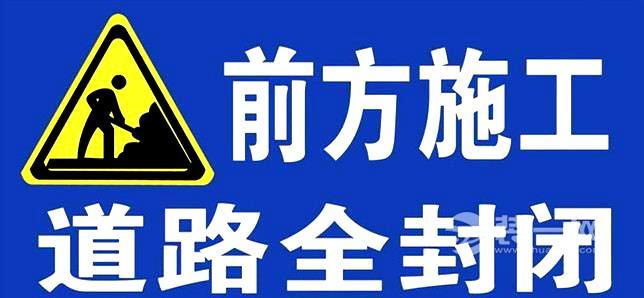sign: (13, 5, 635, 296)
